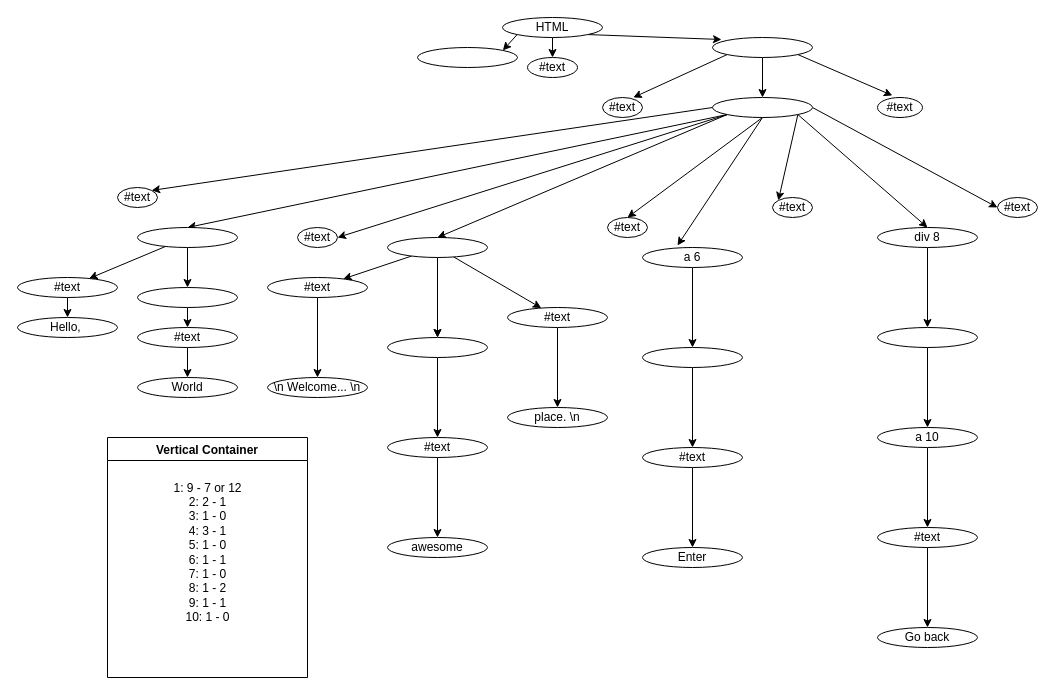
Image size: 1055x695. Some labels were removed from this diagram. Each missing label, with the centre of its shape:
body: (762,47)
div 1: (762,107)
em 3: (187,297)
h1 2: (187,237)
head: (467,57)
p 4: (437,247)
p 9: (927,337)
span 5: (437,347)
strong 7: (692,357)
